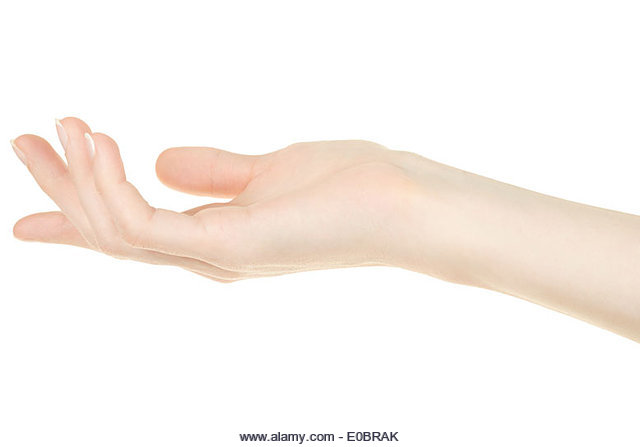non-diseased: (11, 100, 412, 304)
